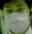with_mask: (1, 2, 32, 34)
